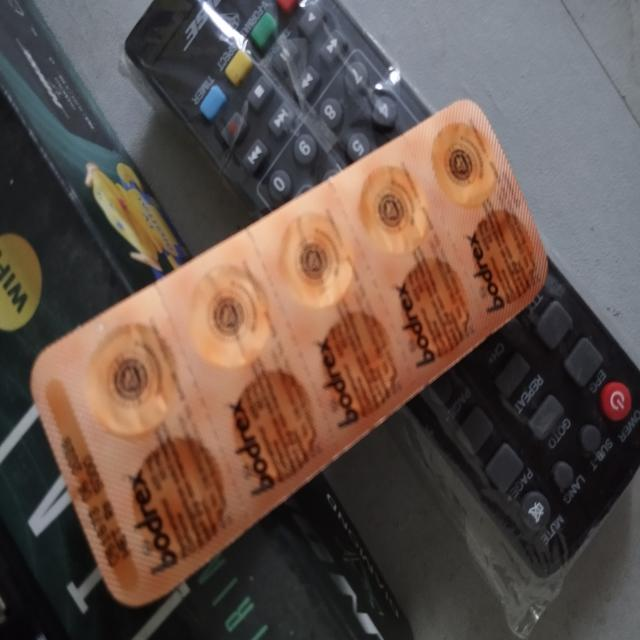B3: (28, 97, 549, 603)
